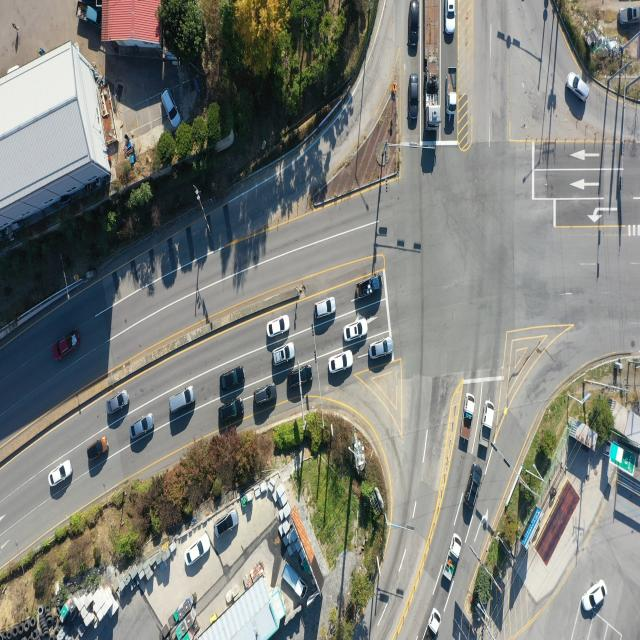car: (467, 465, 484, 513), (582, 581, 606, 614), (187, 536, 211, 569), (55, 332, 80, 363), (172, 384, 198, 412), (161, 91, 179, 131), (50, 459, 73, 487), (132, 414, 156, 440), (215, 512, 238, 539), (286, 364, 313, 387), (329, 350, 354, 374), (407, 0, 419, 50), (567, 73, 588, 100), (368, 338, 392, 361), (344, 319, 368, 342), (106, 390, 129, 414), (219, 367, 243, 390), (218, 401, 242, 424), (85, 435, 107, 459), (252, 384, 276, 406), (268, 315, 290, 337), (313, 298, 335, 320), (272, 344, 294, 366), (409, 74, 419, 118), (619, 6, 640, 25), (446, 0, 456, 34)
large_truck: (422, 0, 441, 126)
small_truck: (281, 564, 309, 596), (444, 534, 462, 582), (459, 395, 475, 446), (481, 400, 495, 450), (356, 275, 381, 300), (76, 0, 100, 26), (446, 66, 456, 114), (428, 606, 442, 636)
